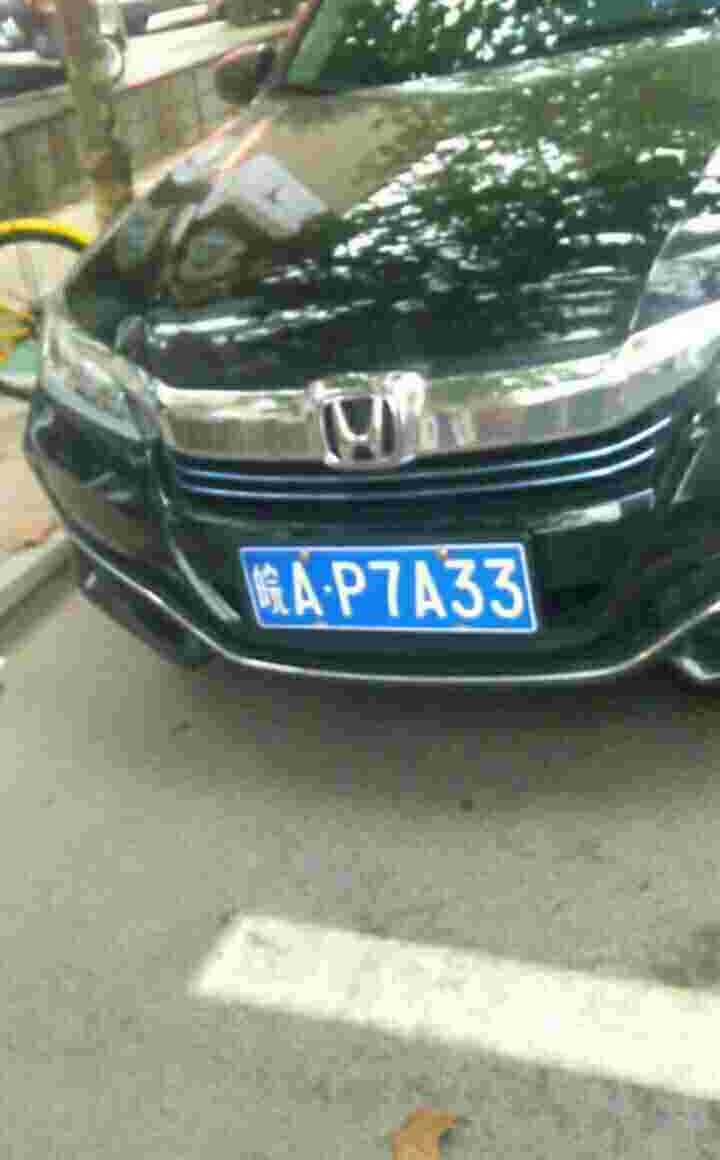license_plate: (241, 548, 526, 634)
